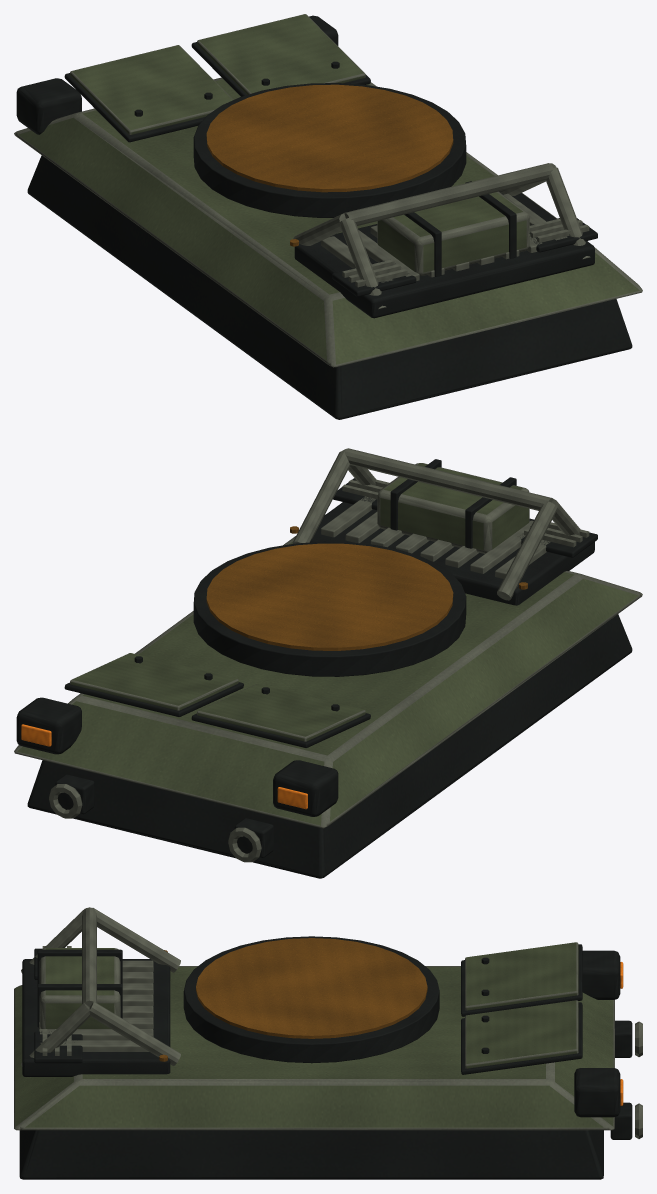
File: jackal-hull.fbx
3 renders of one model, top to bottom at view 1: azimuth 30°, elevation 25°; view 2: azimuth 150°, elevation 25°; view 3: azimuth 270°, elevation 25°, orthographic. The views are drawn at different scales.
Parts seen in each view (by area): view 1: jackal-hull_Armor, jackal-hull_Steel, jackal-hull_Brass, jackal-hull_Edge; view 2: jackal-hull_Armor, jackal-hull_Steel, jackal-hull_Brass, jackal-hull_Edge, jackal-hull_Optic; view 3: jackal-hull_Armor, jackal-hull_Steel, jackal-hull_Brass, jackal-hull_Edge.
Part boxes in pixels (x1,y1,x2,y2): jackal-hull_Armor: (14, 14, 642, 367); jackal-hull_Steel: (16, 15, 632, 419); jackal-hull_Brass: (206, 84, 453, 246); jackal-hull_Edge: (293, 163, 590, 309); jackal-hull_Armor: (14, 463, 642, 828); jackal-hull_Steel: (16, 459, 632, 878); jackal-hull_Brass: (206, 526, 527, 650); jackal-hull_Edge: (49, 448, 589, 862); jackal-hull_Optic: (21, 724, 307, 809); jackal-hull_Armor: (14, 942, 614, 1130); jackal-hull_Steel: (19, 936, 632, 1179); jackal-hull_Brass: (159, 938, 427, 1061); jackal-hull_Edge: (21, 907, 642, 1138).
Size of the model in its own units: 252 by 131 by 467.
Materials: 5 (5 with a texture image).
